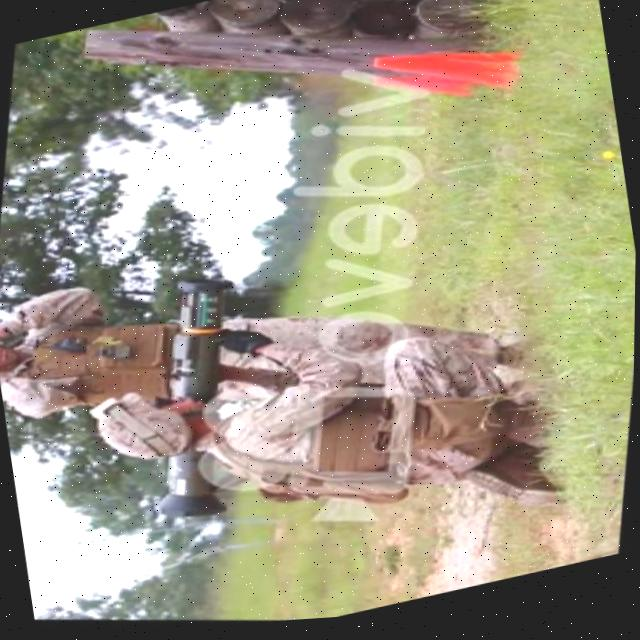rocket: (117, 263, 279, 536)
